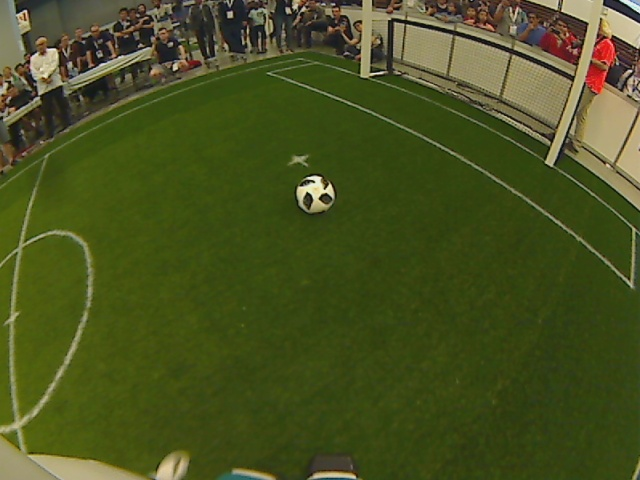ball: (292, 171, 337, 215)
